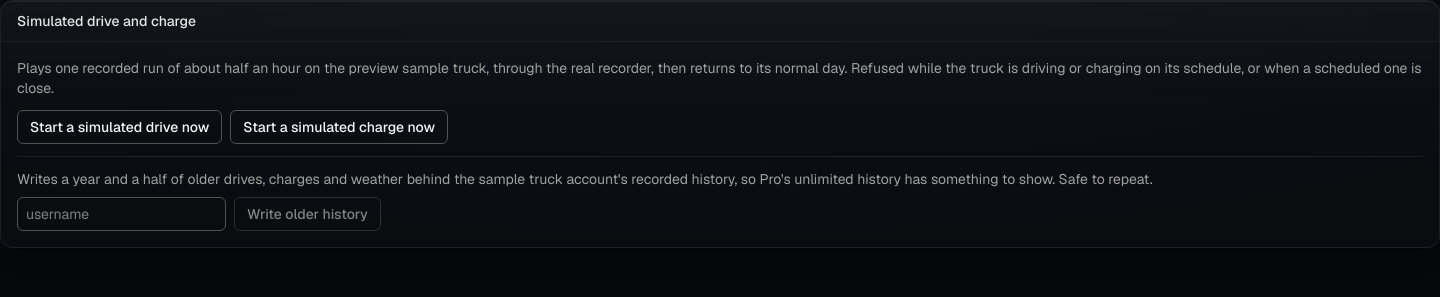
Test: the preview's simulated drive and charge card › shows why the truck cannot take a run
This screenshot has width=1440, height=297.
Click the button "Start a simulated drive now". click: point(120, 127)
box: [17,110,222,144]
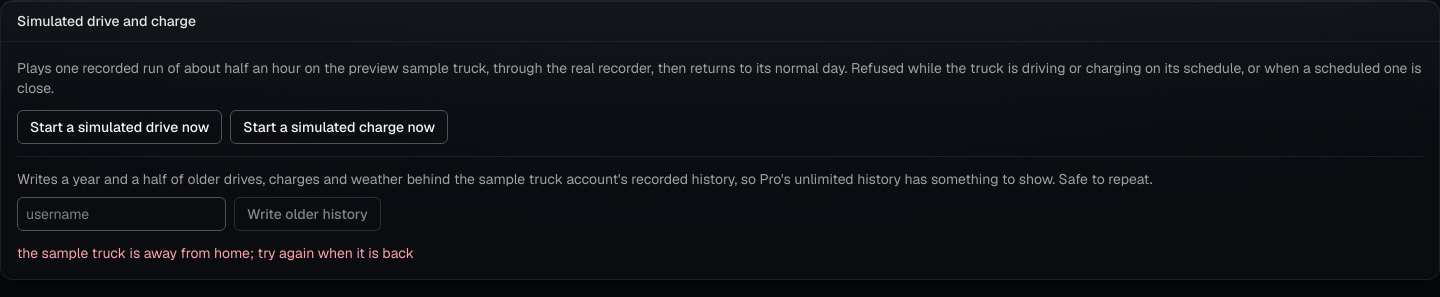
Result: the message shows "away from home" at [17,244,414,262]
